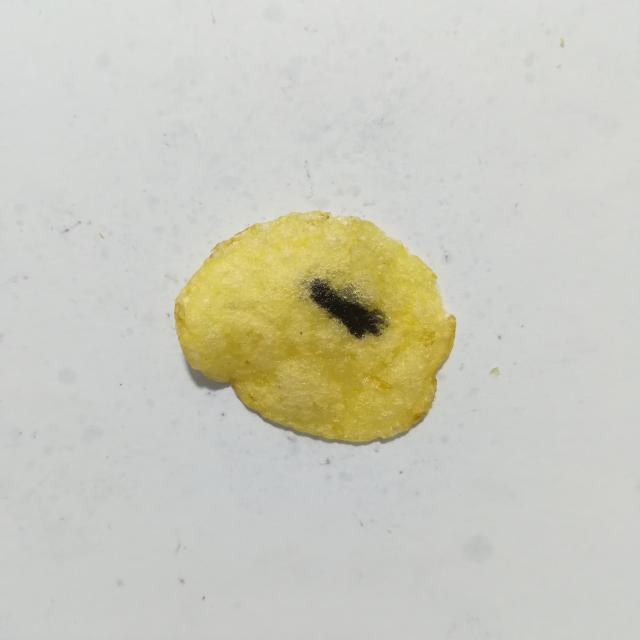chip: (174, 211, 455, 441)
damaged: (309, 278, 386, 338)
